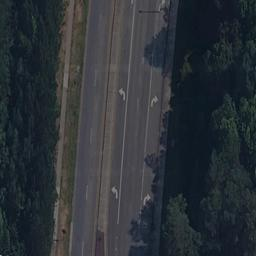Left Turn Arrow: (149, 94, 162, 110), (142, 190, 153, 207), (119, 85, 125, 101), (112, 183, 117, 199)
Solid White Line: (147, 4, 160, 92), (115, 104, 129, 183), (123, 3, 136, 83), (141, 115, 151, 187), (117, 201, 120, 225)
White Dashed Line: (74, 1, 108, 252), (134, 8, 141, 255)
